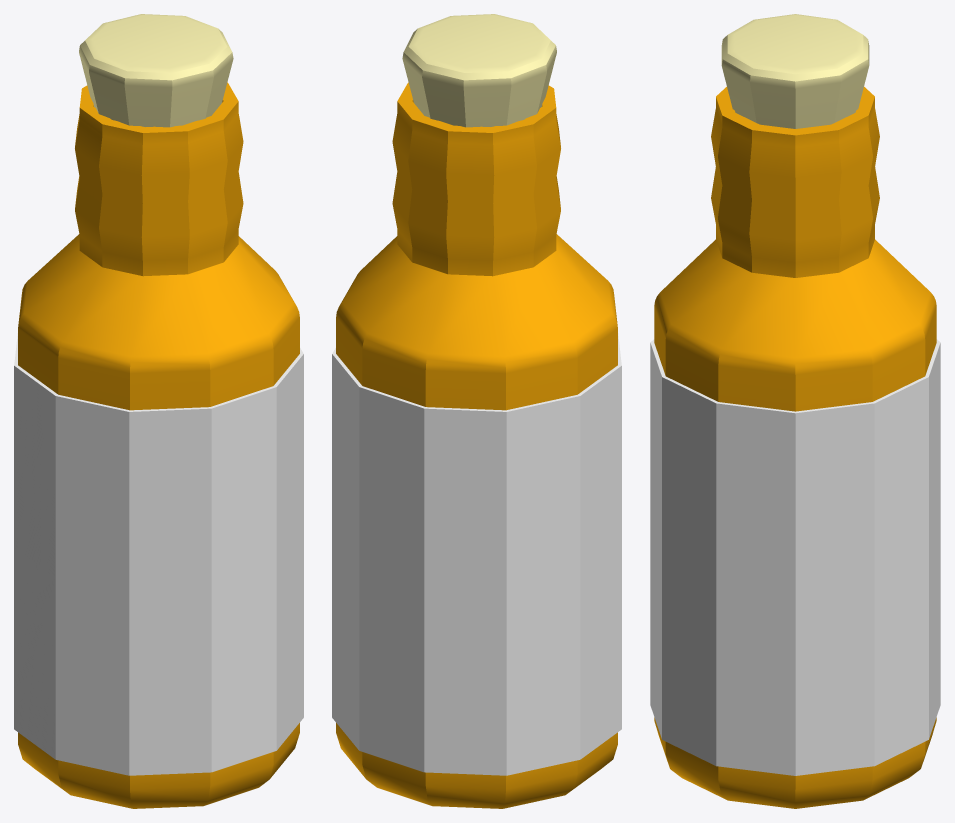
File: ChipSpiceBottleMesh.fbx
3 renders of one model, left to right at view 1: azimuth 30°, elevation 25°; view 2: azimuth 150°, elevation 25°; view 3: azimuth 270°, elevation 25°, orthographic.
Visible parts, largest first — view 1: pCylinder3; view 2: pCylinder3; view 3: pCylinder3.
Part boxes in pixels (box(x1,y1,x2,y2)): pCylinder3: box(14, 14, 303, 808); pCylinder3: box(332, 14, 621, 808); pCylinder3: box(650, 14, 940, 808).
Bounding box in the file's own units: 1.52 × 4.18 × 1.53.
